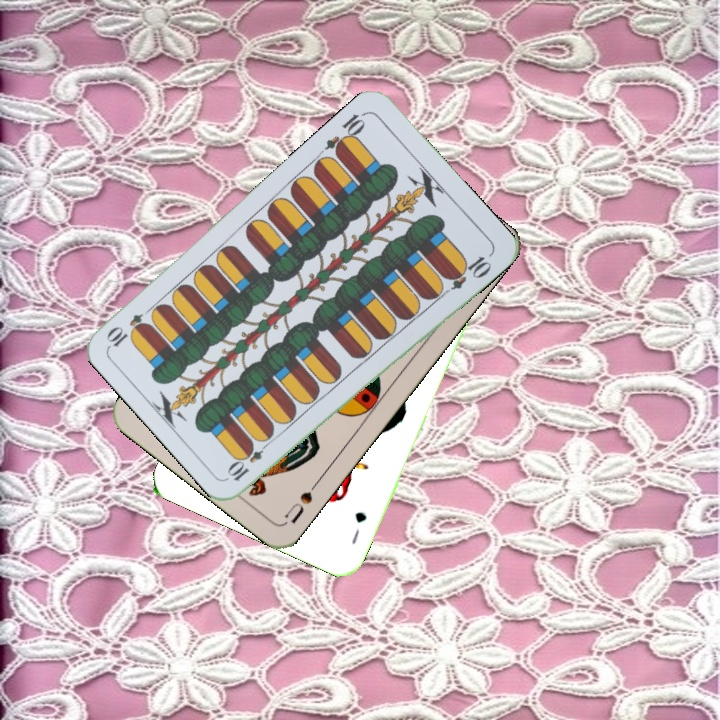E10: (224, 435, 274, 484), (321, 108, 369, 159)
GU: (347, 507, 370, 547)
SU: (280, 476, 322, 526)
